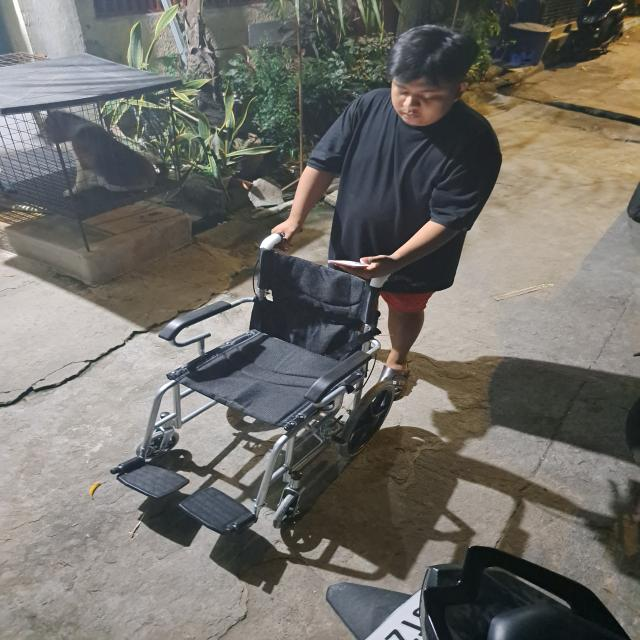wheelchairs: (122, 230, 396, 544)
